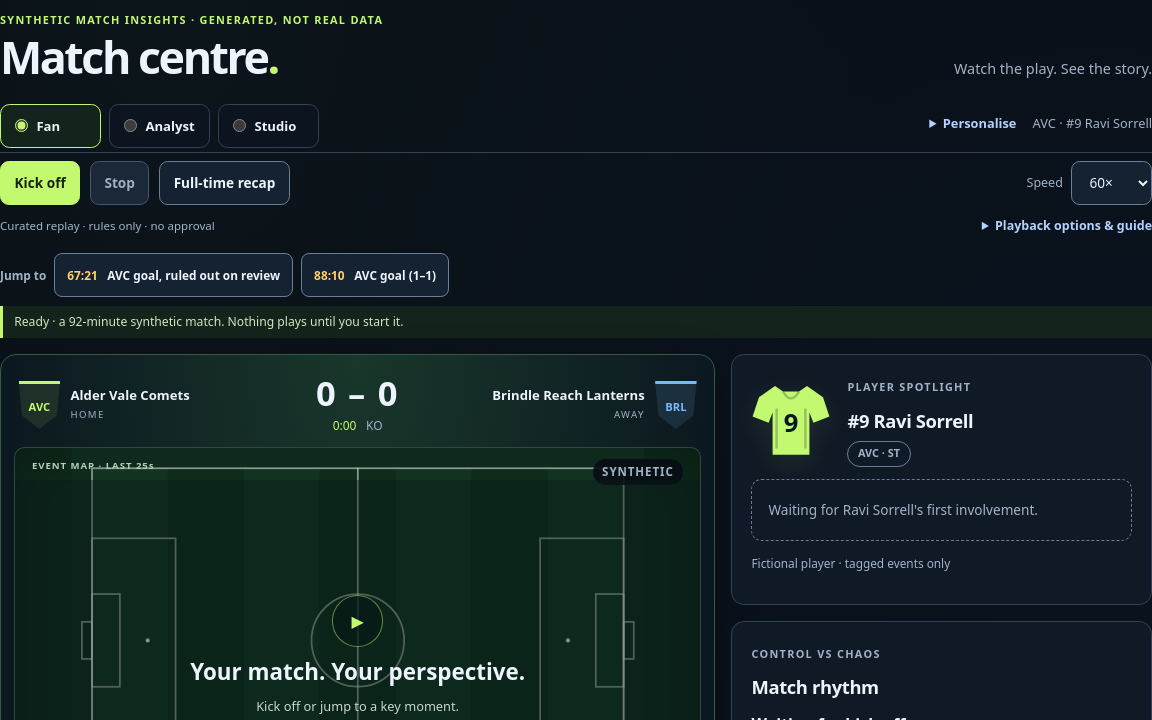
Test case: starting an operator-gated run › closes both streams on Stop and says the session stays on the server until it expires
The width and height of the screenshot is (1152, 720).
Expected: the element with test id "scorebug" is shown, [14,368,702,447]
Click the heading "Personalise AVC · #9 Ravi Sorrell": (1047, 123) [943,114,1151,132]
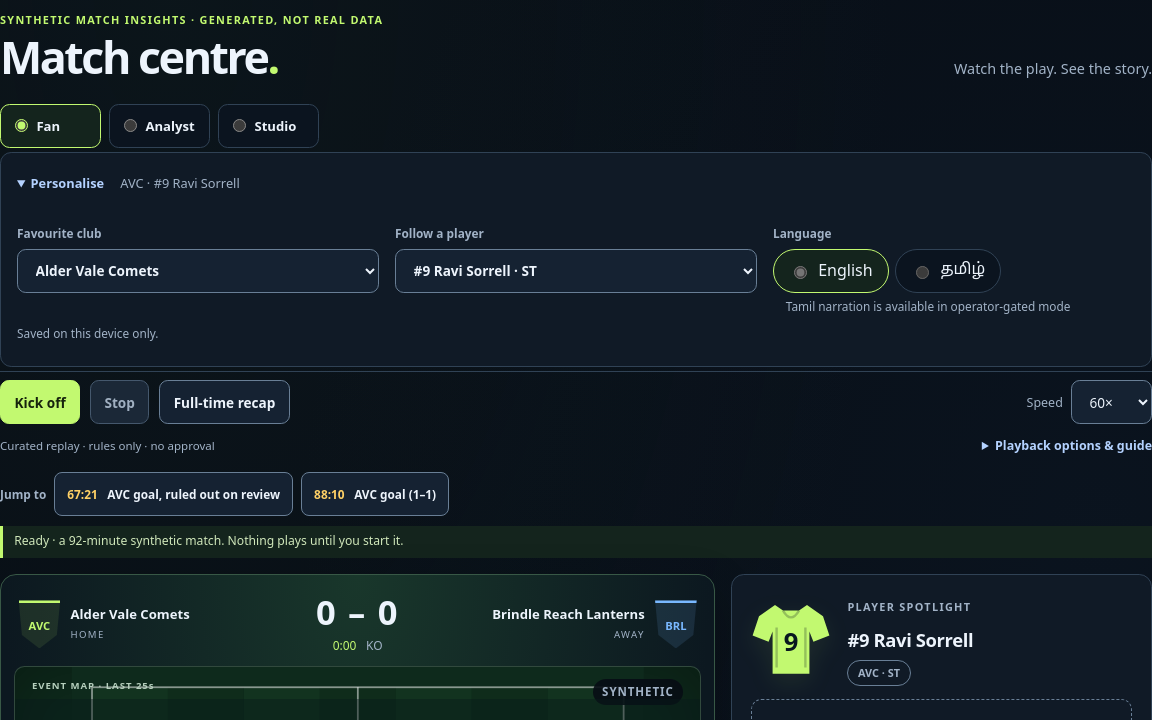
Click the heading "Playback options & guide": (1074, 445) [995,436,1151,454]
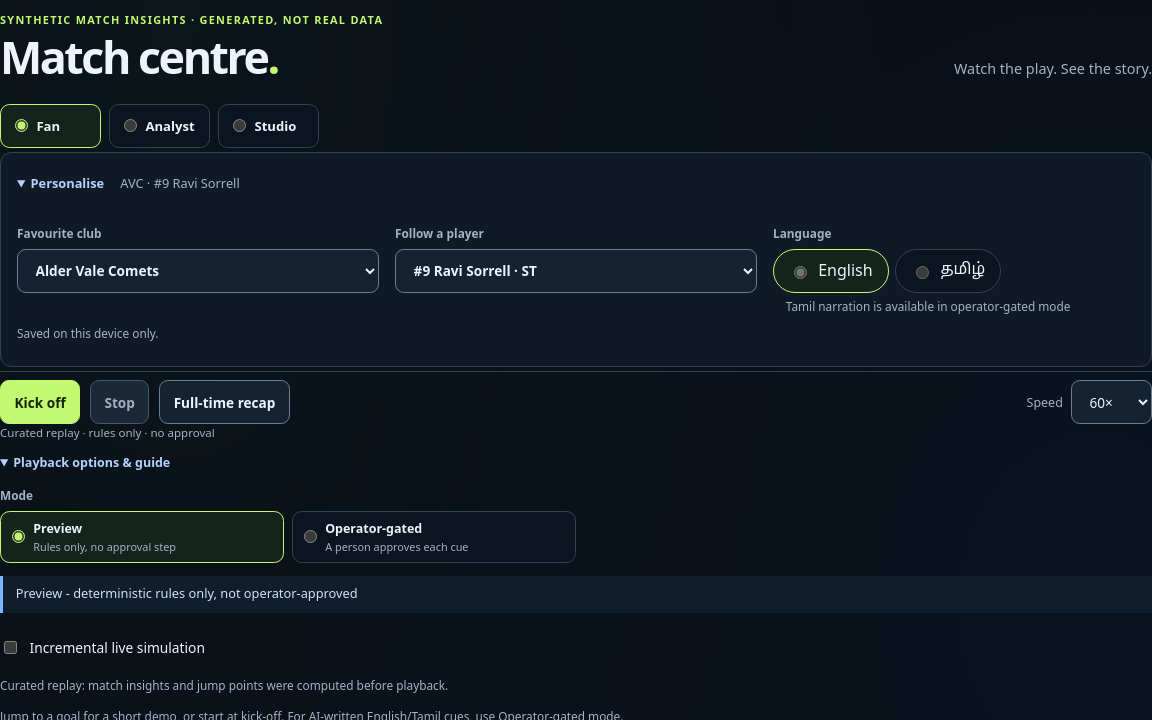
Click the radio button labelled "Operator-gated A person approves each cue": (311, 537) [304,530,317,543]
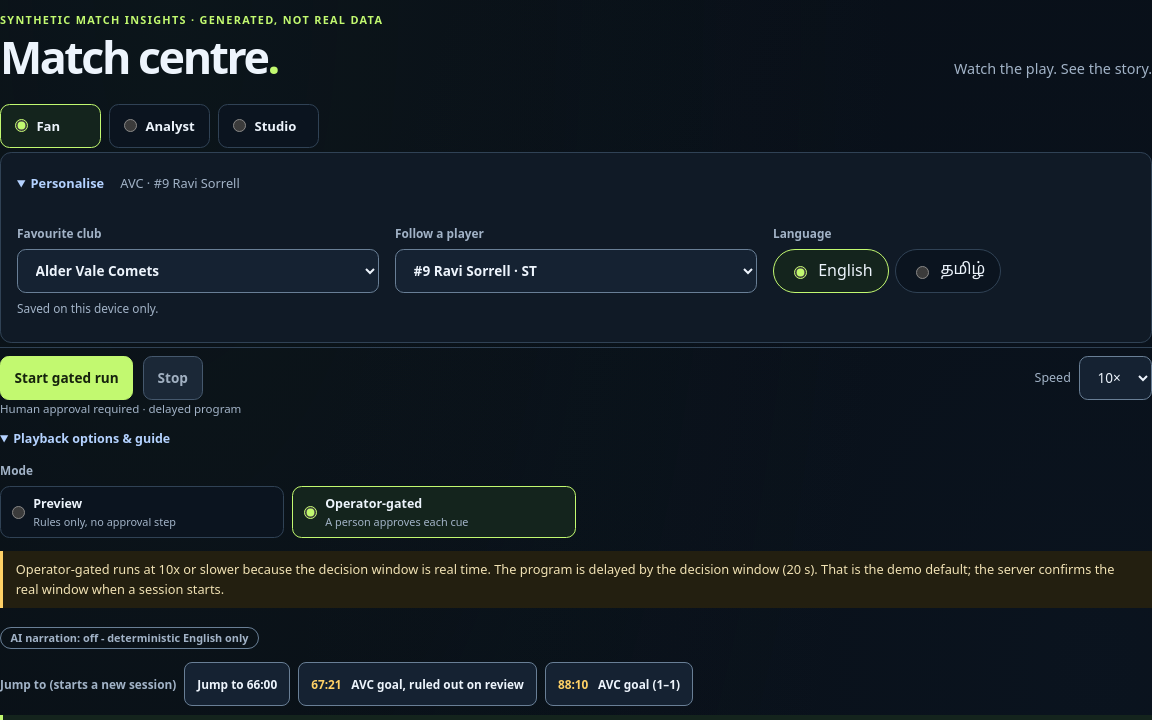
Click the button "Start gated run": (67, 378) [0,356,133,400]
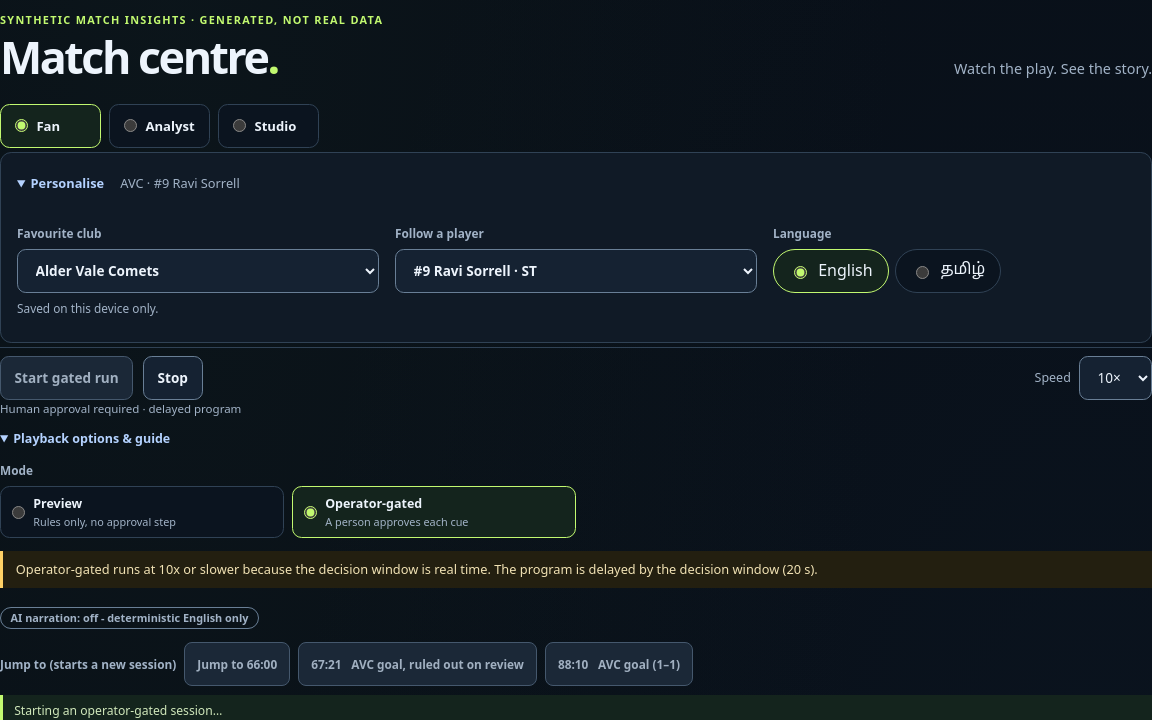
Click the button "Stop": (173, 378) [143,356,202,400]
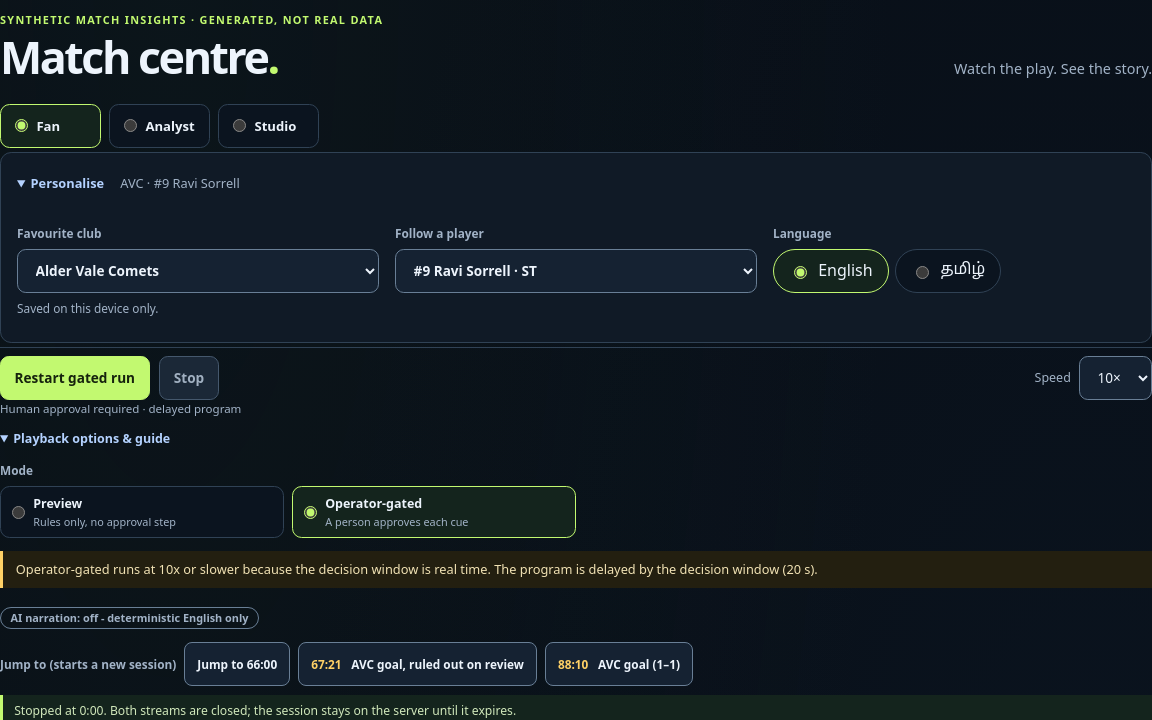
Expected: the message with test id "match-status" shows "Stopped at 0:00. Both streams are closed; the session stays on the server until it expires.", [14,702,516,719]
Expected: the button "Restart gated run" is enabled, [0,356,150,400]
